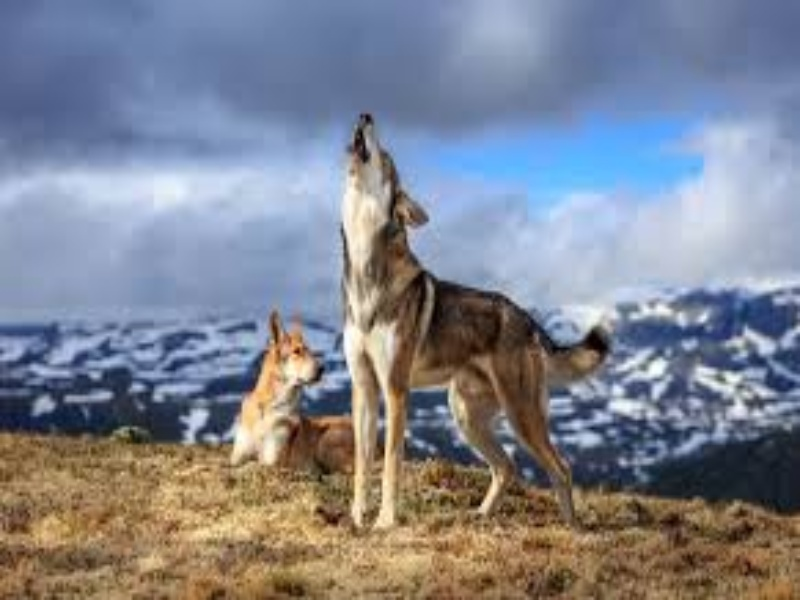dog: (331, 111, 614, 542), (231, 308, 343, 473)
